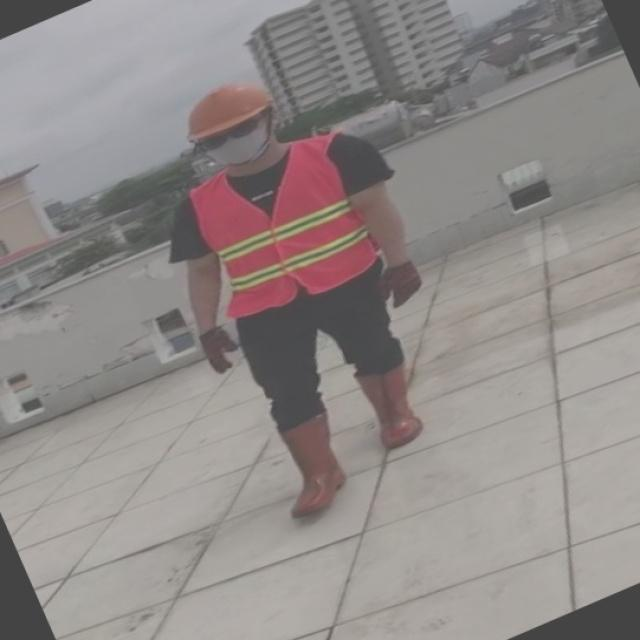helmet: (185, 74, 276, 144)
safety_vest: (182, 128, 384, 326)
